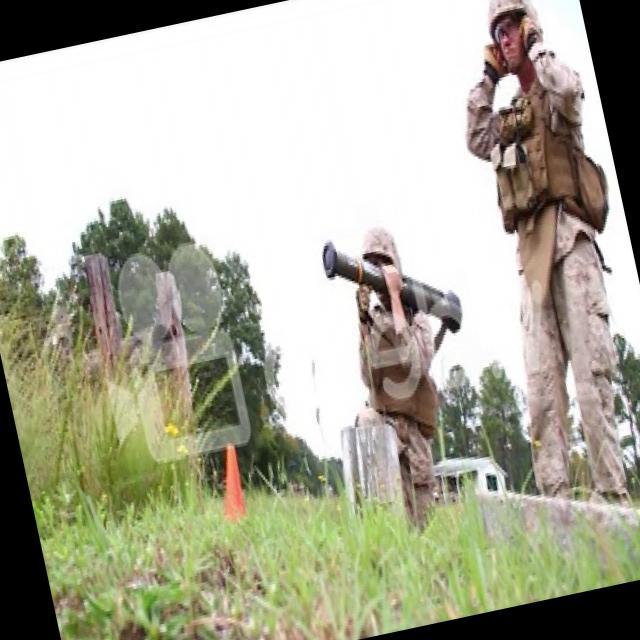rocket: (316, 212, 468, 360)
